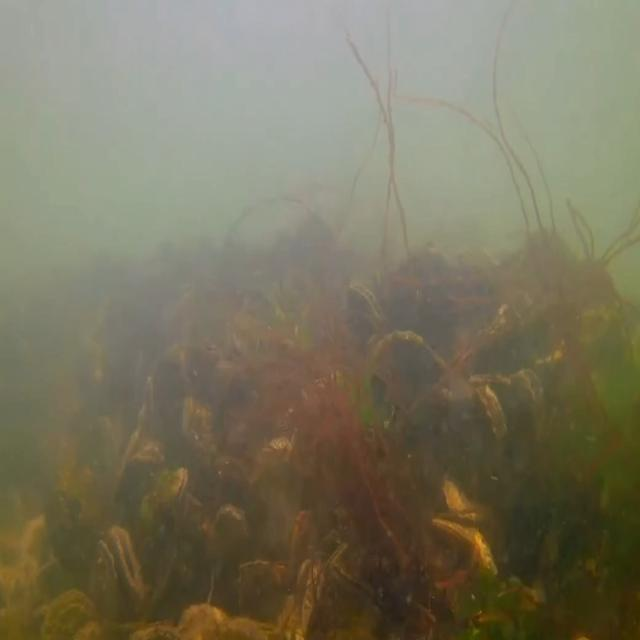Oyster-Closed: (346, 279, 388, 388), (432, 514, 498, 583), (136, 466, 190, 524), (442, 472, 498, 522)
Oyster-Indeterminate: (362, 330, 457, 438), (414, 380, 508, 456), (468, 369, 546, 442), (146, 347, 193, 461), (120, 373, 157, 487), (212, 501, 253, 597), (179, 395, 220, 480), (43, 587, 97, 640), (254, 428, 300, 470), (126, 438, 168, 479)
Oyster-Open: (91, 524, 146, 640), (295, 556, 324, 640)
